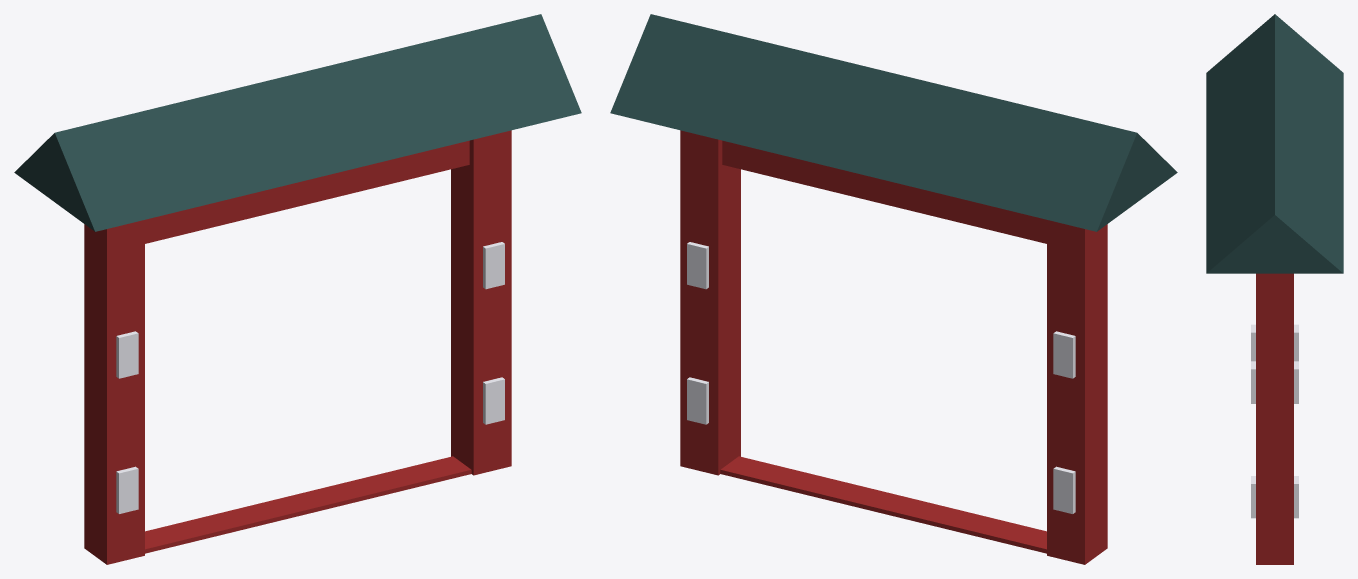
File: Asian_Prop_Building_Fence_Wall_Gateway_01.FBX
The picture shows the model from 3 angles, left to right: view 1: azimuth 30°, elevation 25°; view 2: azimuth 150°, elevation 25°; view 3: azimuth 270°, elevation 25°; orthographic projection. The views are drawn at different scales.
Parts seen in each view (by area): view 1: Asian_Prop_Building_Fence_Wall_Gateway_01; view 2: Asian_Prop_Building_Fence_Wall_Gateway_01; view 3: Asian_Prop_Building_Fence_Wall_Gateway_01.
Part boxes in pixels (x1,y1,x2,y2): Asian_Prop_Building_Fence_Wall_Gateway_01: (14,14,581,564); Asian_Prop_Building_Fence_Wall_Gateway_01: (610,14,1177,564); Asian_Prop_Building_Fence_Wall_Gateway_01: (1206,14,1343,564).
Size of the model in its own units: 6215 by 5297 by 1793.
